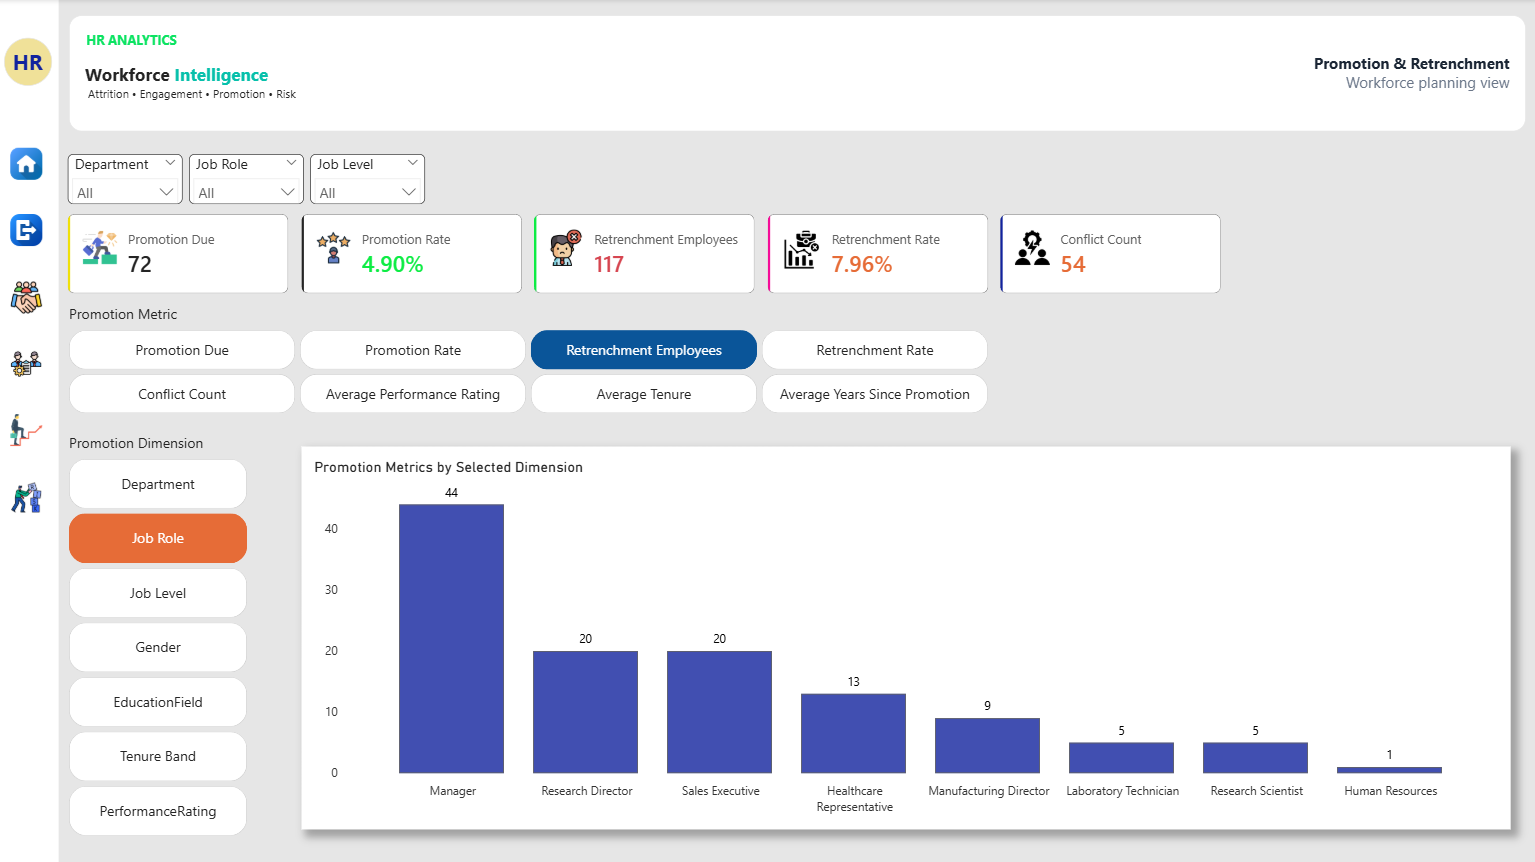

What the dashboard file says about the page in this screenshot:
{"tool":"powerbi","page":{"name":" Page 5","canvas":[1920,1080],"ordinal":5},"visuals":[{"type":"textbox","box":[0,0,74.1,1079.3],"z":0},{"type":"textbox","box":[86.7,20,1816.7,145],"z":1000},{"type":"textbox","box":[1631.7,48.3,253.3,91.7],"z":2000},{"type":"pageNavigator","box":[-0.7,122.1,74.6,50.7],"z":3000},{"type":"pageNavigator","box":[1.5,540.3,74.6,50.7],"z":4000},{"type":"pageNavigator","box":[0,456.7,74.6,50.7],"z":5000},{"type":"pageNavigator","box":[0,373,74.6,50.7],"z":6000},{"type":"pageNavigator","box":[1.5,289.4,74.6,50.7],"z":7000},{"type":"pageNavigator","box":[1.5,205.7,74.6,50.7],"z":8000},{"type":"slicer","fields":{"Values":["HR.Department"]},"box":[86.6,194,143.3,62.7],"z":9000},{"type":"slicer","fields":{"Values":["HR.JobRole"]},"box":[237.6,194,143.3,62.7],"z":10000},{"type":"slicer","fields":{"Values":["HR.JobLevel"]},"box":[388.7,194,143.3,62.7],"z":11000},{"type":"cardVisual","fields":{"Data":["#Measures.Promotion Due"]},"box":[86.6,267.2,197,83.6],"z":12000},{"type":"cardVisual","fields":{"Data":["#Measures.Promotion Rate","#Measures.Retrenchment Employees","#Measures.Retrenchment Rate","#Measures.Conflict Count"]},"box":[303.8,266.2,845.6,84.4],"z":13000},{"type":"pivotTable","title":"Conflict View","fields":{"Columns":["HR.Retrenchment Flag"],"Rows":["HR.promotion Flag"],"Values":["#Measures.total employees"]},"box":[86.6,380.6,537.3,268.7],"z":14000},{"type":"clusteredColumnChart","title":"Department Distribution","fields":{"Category":["HR.Department"],"Y":["#Measures.Promotion Due","#Measures.Retrenchment Employees"]},"box":[647.8,380.6,537.3,268.7],"z":15000},{"type":"clusteredBarChart","title":"Job Role Distribution","fields":{"Category":["HR.JobRole"],"Y":["#Measures.Promotion Due","#Measures.Retrenchment Employees"]},"box":[86.6,710.4,537.3,268.7],"z":16000},{"type":"clusteredColumnChart","title":"Job Level  Distribution","fields":{"Category":["HR.JobLevel"],"Y":["#Measures.Promotion Due","#Measures.Retrenchment Employees"]},"box":[1220.5,380.3,537.3,268.7],"z":17000},{"type":"clusteredColumnChart","title":"Performance of Affected Employees","fields":{"Category":["HR.PerformanceRating"],"Y":["#Measures.Promotion Due","#Measures.Retrenchment Employees"]},"box":[646.7,710.4,537.3,268.7],"z":18000},{"type":"clusteredColumnChart","title":"Tenure of Affected Employees","fields":{"Category":["HR.Tenure Band"],"Y":["#Measures.Promotion Due","#Measures.Retrenchment Employees"]},"box":[1229.6,710.4,528.3,268.7],"z":19000}]}

Visuals, with their boxes on the page's 1920x1080 design canvas (x1, y1, x2, y2). These are canvas units, not pixel positions in the 1535x862 screenshot, which may show the page scaled, cropped or inside an application window:
textbox: [0, 0, 74, 1079]
textbox: [87, 20, 1903, 165]
textbox: [1632, 48, 1885, 140]
pageNavigator: [-1, 122, 74, 173]
pageNavigator: [2, 540, 76, 591]
pageNavigator: [0, 457, 75, 507]
pageNavigator: [0, 373, 75, 424]
pageNavigator: [2, 289, 76, 340]
pageNavigator: [2, 206, 76, 256]
slicer - HR.Department: [87, 194, 230, 257]
slicer - HR.JobRole: [238, 194, 381, 257]
slicer - HR.JobLevel: [389, 194, 532, 257]
cardVisual - #Measures.Promotion Due: [87, 267, 284, 351]
cardVisual - #Measures.Promotion Rate x #Measures.Retrenchment Employees: [304, 266, 1149, 351]
"Conflict View" pivotTable: [87, 381, 624, 649]
"Department Distribution" clusteredColumnChart: [648, 381, 1185, 649]
"Job Role Distribution" clusteredBarChart: [87, 710, 624, 979]
"Job Level  Distribution" clusteredColumnChart: [1220, 380, 1758, 649]
"Performance of Affected Employees" clusteredColumnChart: [647, 710, 1184, 979]
"Tenure of Affected Employees" clusteredColumnChart: [1230, 710, 1758, 979]
